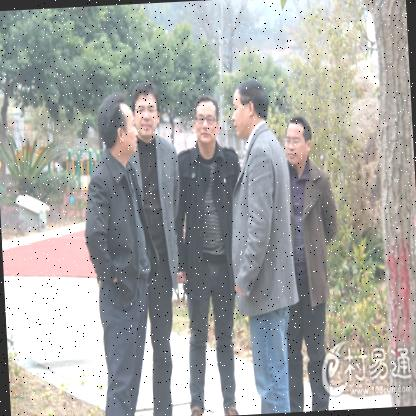sem_capacete: (94, 92, 140, 159), (228, 76, 272, 140), (128, 78, 165, 144), (191, 91, 222, 148), (282, 114, 314, 166)
sem_colete_refletivo: (222, 122, 300, 316), (79, 148, 155, 310), (175, 136, 246, 286), (283, 157, 344, 310), (129, 131, 186, 294)
